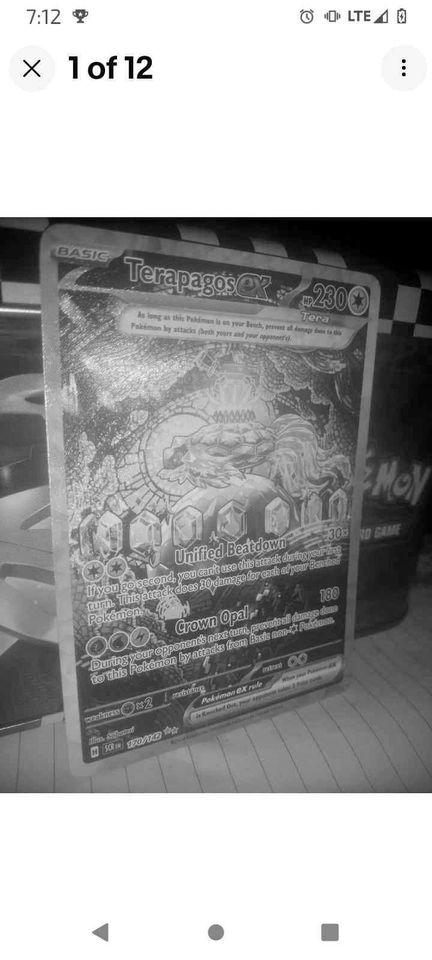card: (40, 222, 382, 779)
